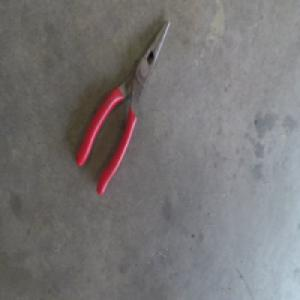Pliers: (75, 17, 170, 195)
